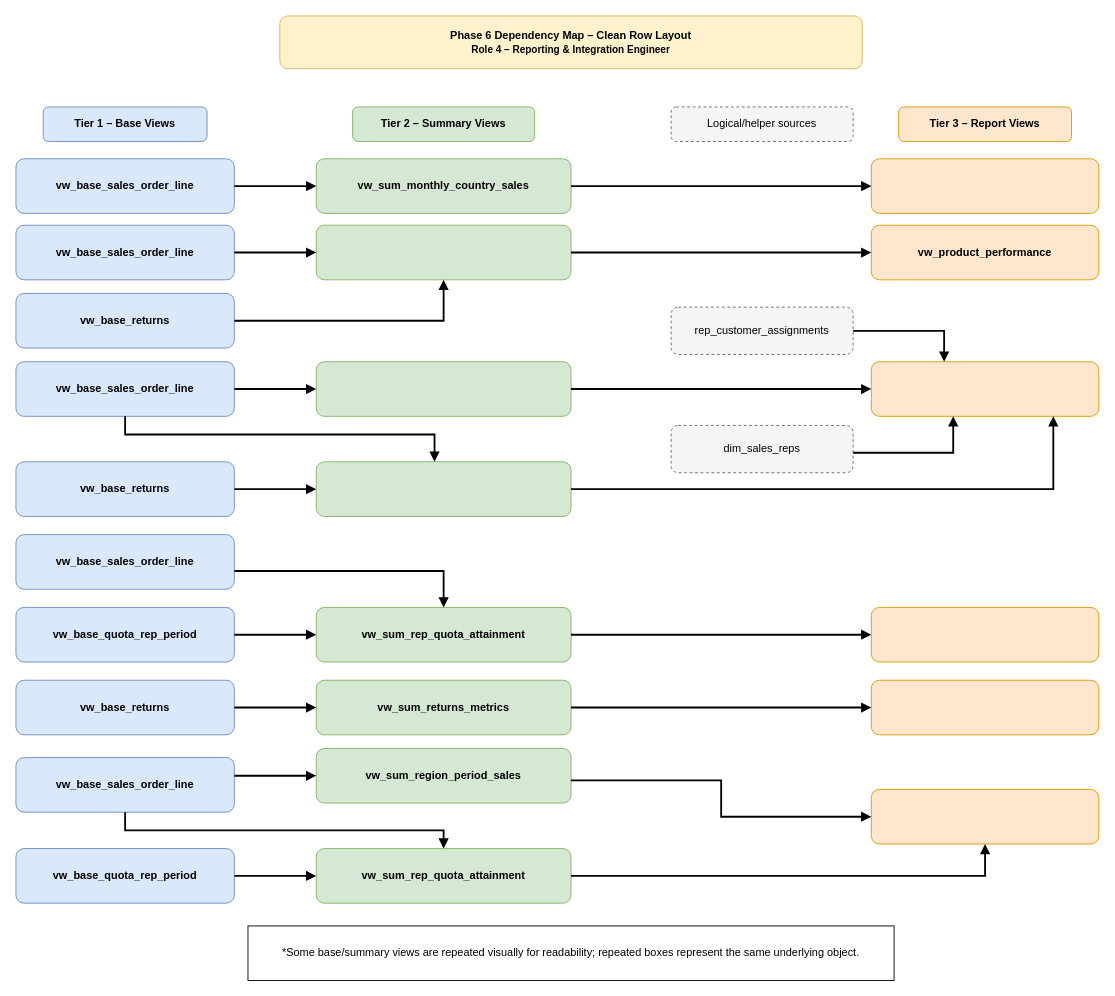
This 1115x996 diagram has some shape labels left out. Each missing label, with the centre of its shape:
"vw_customer_360" goes at (x=984, y=388).
"vw_monthly_trend" goes at (x=984, y=185).
"vw_rep_performance_scorecard" goes at (x=984, y=634).
"vw_returns_analysis" goes at (x=984, y=707).
"vw_sales_executive_summary" goes at (x=984, y=816).
"vw_sum_customer_metrics" goes at (x=443, y=488).
"vw_sum_customer_rfm" goes at (x=443, y=388).
"vw_sum_product_metrics" goes at (x=443, y=252).
